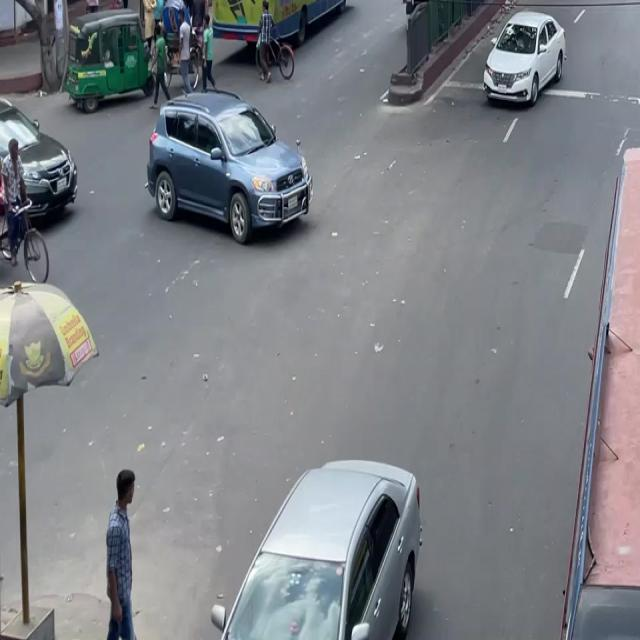bus: (203, 0, 360, 47)
car: (213, 439, 446, 640), (138, 69, 326, 271), (468, 1, 578, 122)
